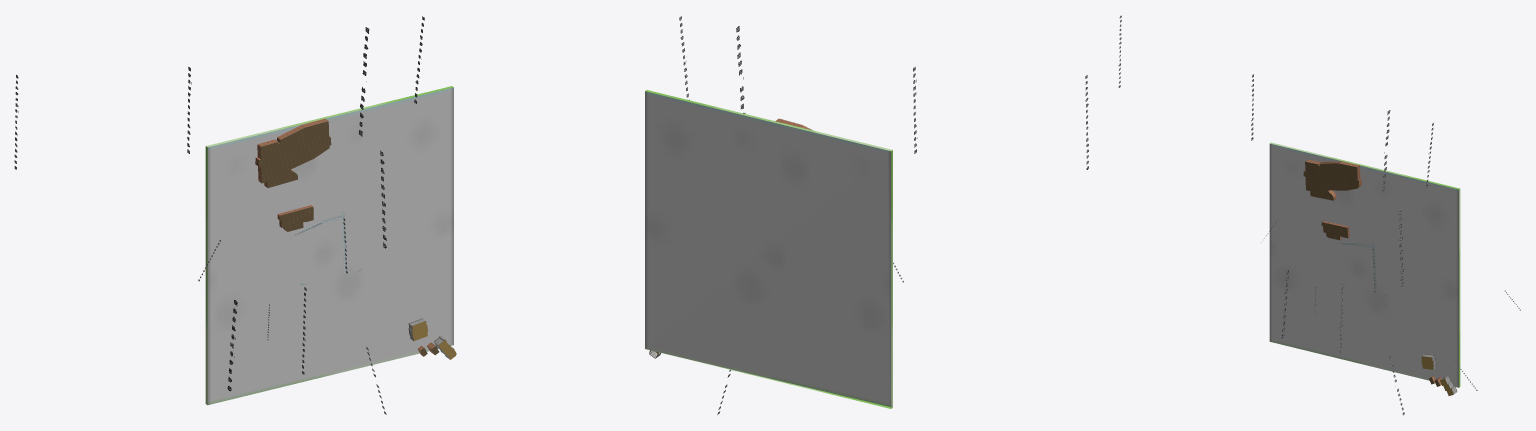
3 views of the same model, side by side, from view 1: azimuth 30°, elevation 25°; view 2: azimuth 150°, elevation 25°; view 3: azimuth 330°, elevation 25° (orthographic). The views are drawn at different scales.
Visible parts, largest first — view 1: POLYGON, BUILDING, FONT; view 2: POLYGON, FONT; view 3: POLYGON, BUILDING, FONT.
Boxes of the visible parts, left/top/right/bottom form: POLYGON: left=205, top=86, right=453, bottom=405; BUILDING: left=255, top=118, right=456, bottom=359; FONT: left=14, top=16, right=424, bottom=414; POLYGON: left=645, top=90, right=892, bottom=408; FONT: left=679, top=16, right=1088, bottom=414; POLYGON: left=1269, top=142, right=1460, bottom=387; BUILDING: left=1303, top=160, right=1457, bottom=395; FONT: left=1118, top=15, right=1520, bottom=415.
Bounding box in the file's own units: 1292 × 1023 × 29.
4 materials, 4 textured.
